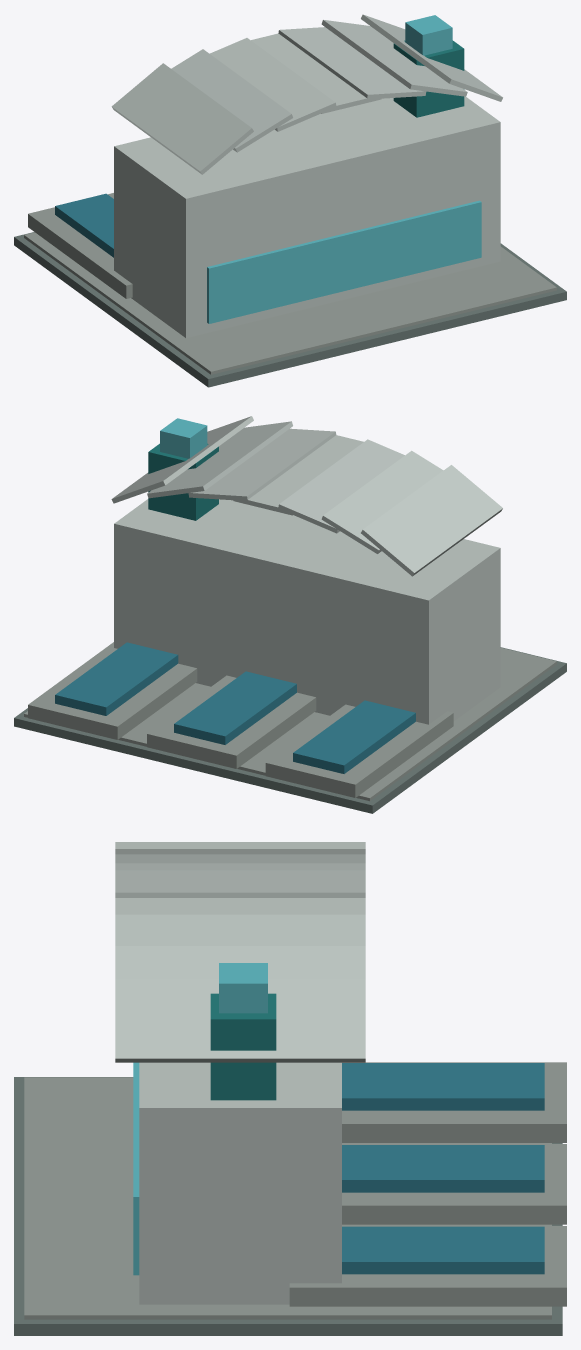
File: airport_terminal_lv3.glb
The picture shows the model from 3 angles, top to bottom: view 1: azimuth 30°, elevation 25°; view 2: azimuth 150°, elevation 25°; view 3: azimuth 270°, elevation 25°; orthographic projection. The views are drawn at different scales.
Parts seen in each view (by area): view 1: rough, glossy; view 2: rough, glossy; view 3: rough, glossy.
Boxes of the visible parts, bbox=[...] form: rough: bbox=[14, 14, 566, 387]; glossy: bbox=[55, 15, 481, 323]; rough: bbox=[14, 416, 566, 813]; glossy: bbox=[55, 418, 415, 773]; rough: bbox=[14, 842, 566, 1335]; glossy: bbox=[133, 963, 544, 1275].
Size of the model in its own units: 9.8 by 5.99 by 9.27.
